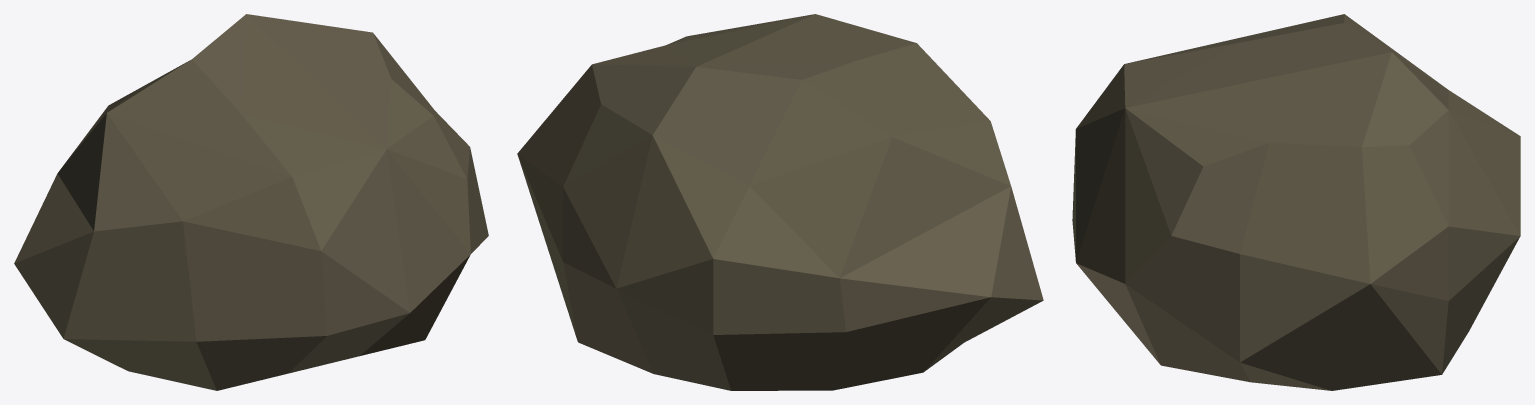
File: Boulder-A05.fbx
3 views of the same model, side by side, from view 1: azimuth 30°, elevation 25°; view 2: azimuth 150°, elevation 25°; view 3: azimuth 270°, elevation 25° (orthographic). The views are drawn at different scales.
Parts seen in each view (by area): view 1: Boulder-A05; view 2: Boulder-A05; view 3: Boulder-A05.
Boxes of the visible parts, bbox=[...] form: Boulder-A05: bbox=[14, 14, 488, 390]; Boulder-A05: bbox=[517, 14, 1043, 390]; Boulder-A05: bbox=[1072, 14, 1520, 390].
Bounding box in the file's own units: 145 × 84.16 × 123.
